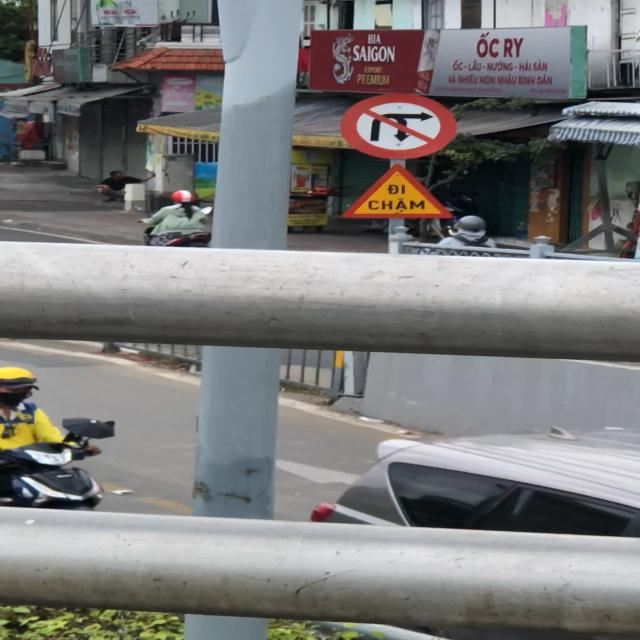Bien bao cam re phai va quay dau: (337, 89, 461, 161)
